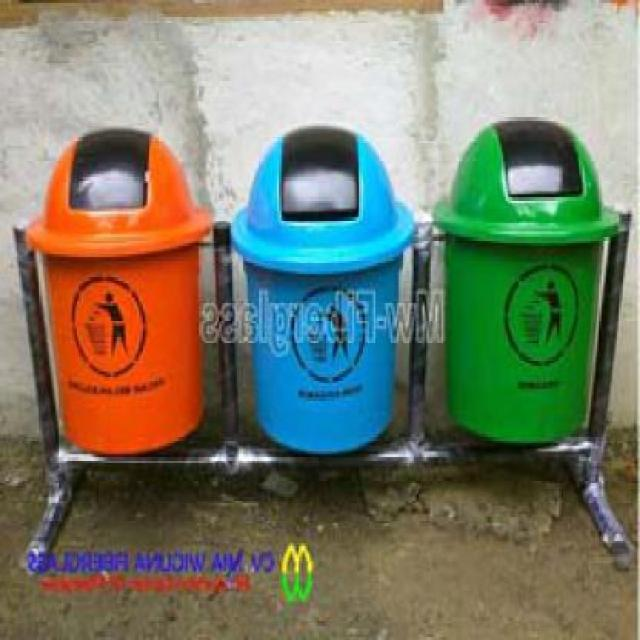garbage container: (424, 108, 628, 466), (224, 114, 422, 466), (19, 122, 216, 472)
